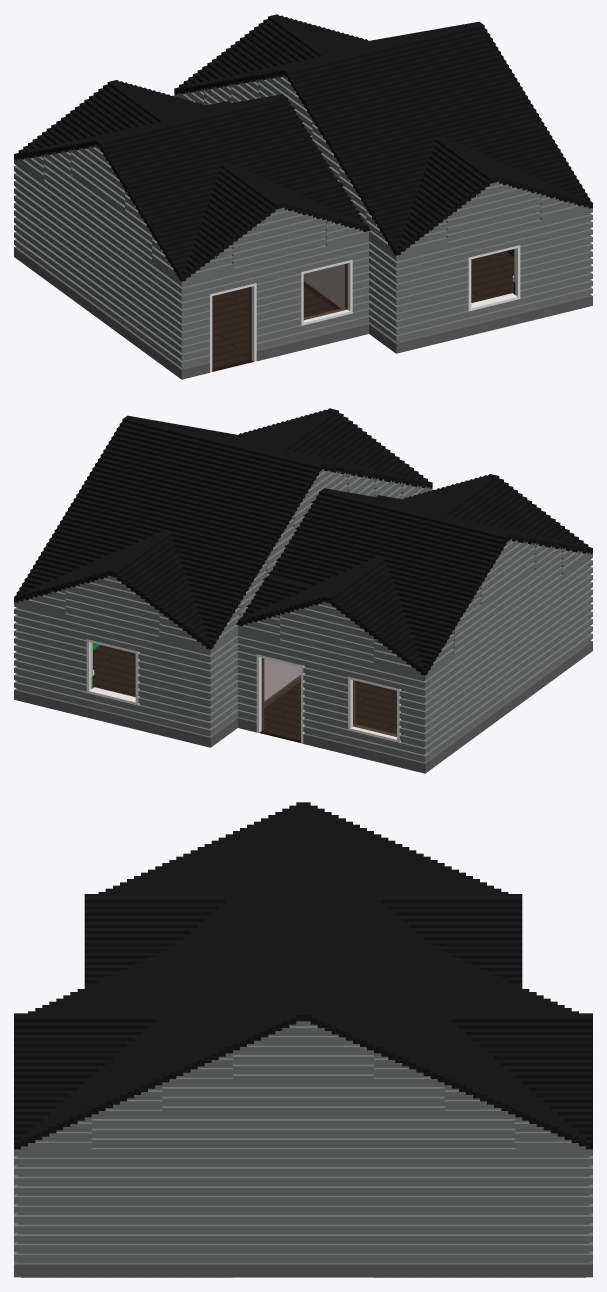
The model's file is house1.obj.
3 views of the same model, one above another, from view 1: azimuth 30°, elevation 25°; view 2: azimuth 150°, elevation 25°; view 3: azimuth 270°, elevation 25° (orthographic). The views are drawn at different scales.
Size of the model in its own units: 16.4 by 8.3 by 16.4.
Materials: 1 (1 with a texture image).
